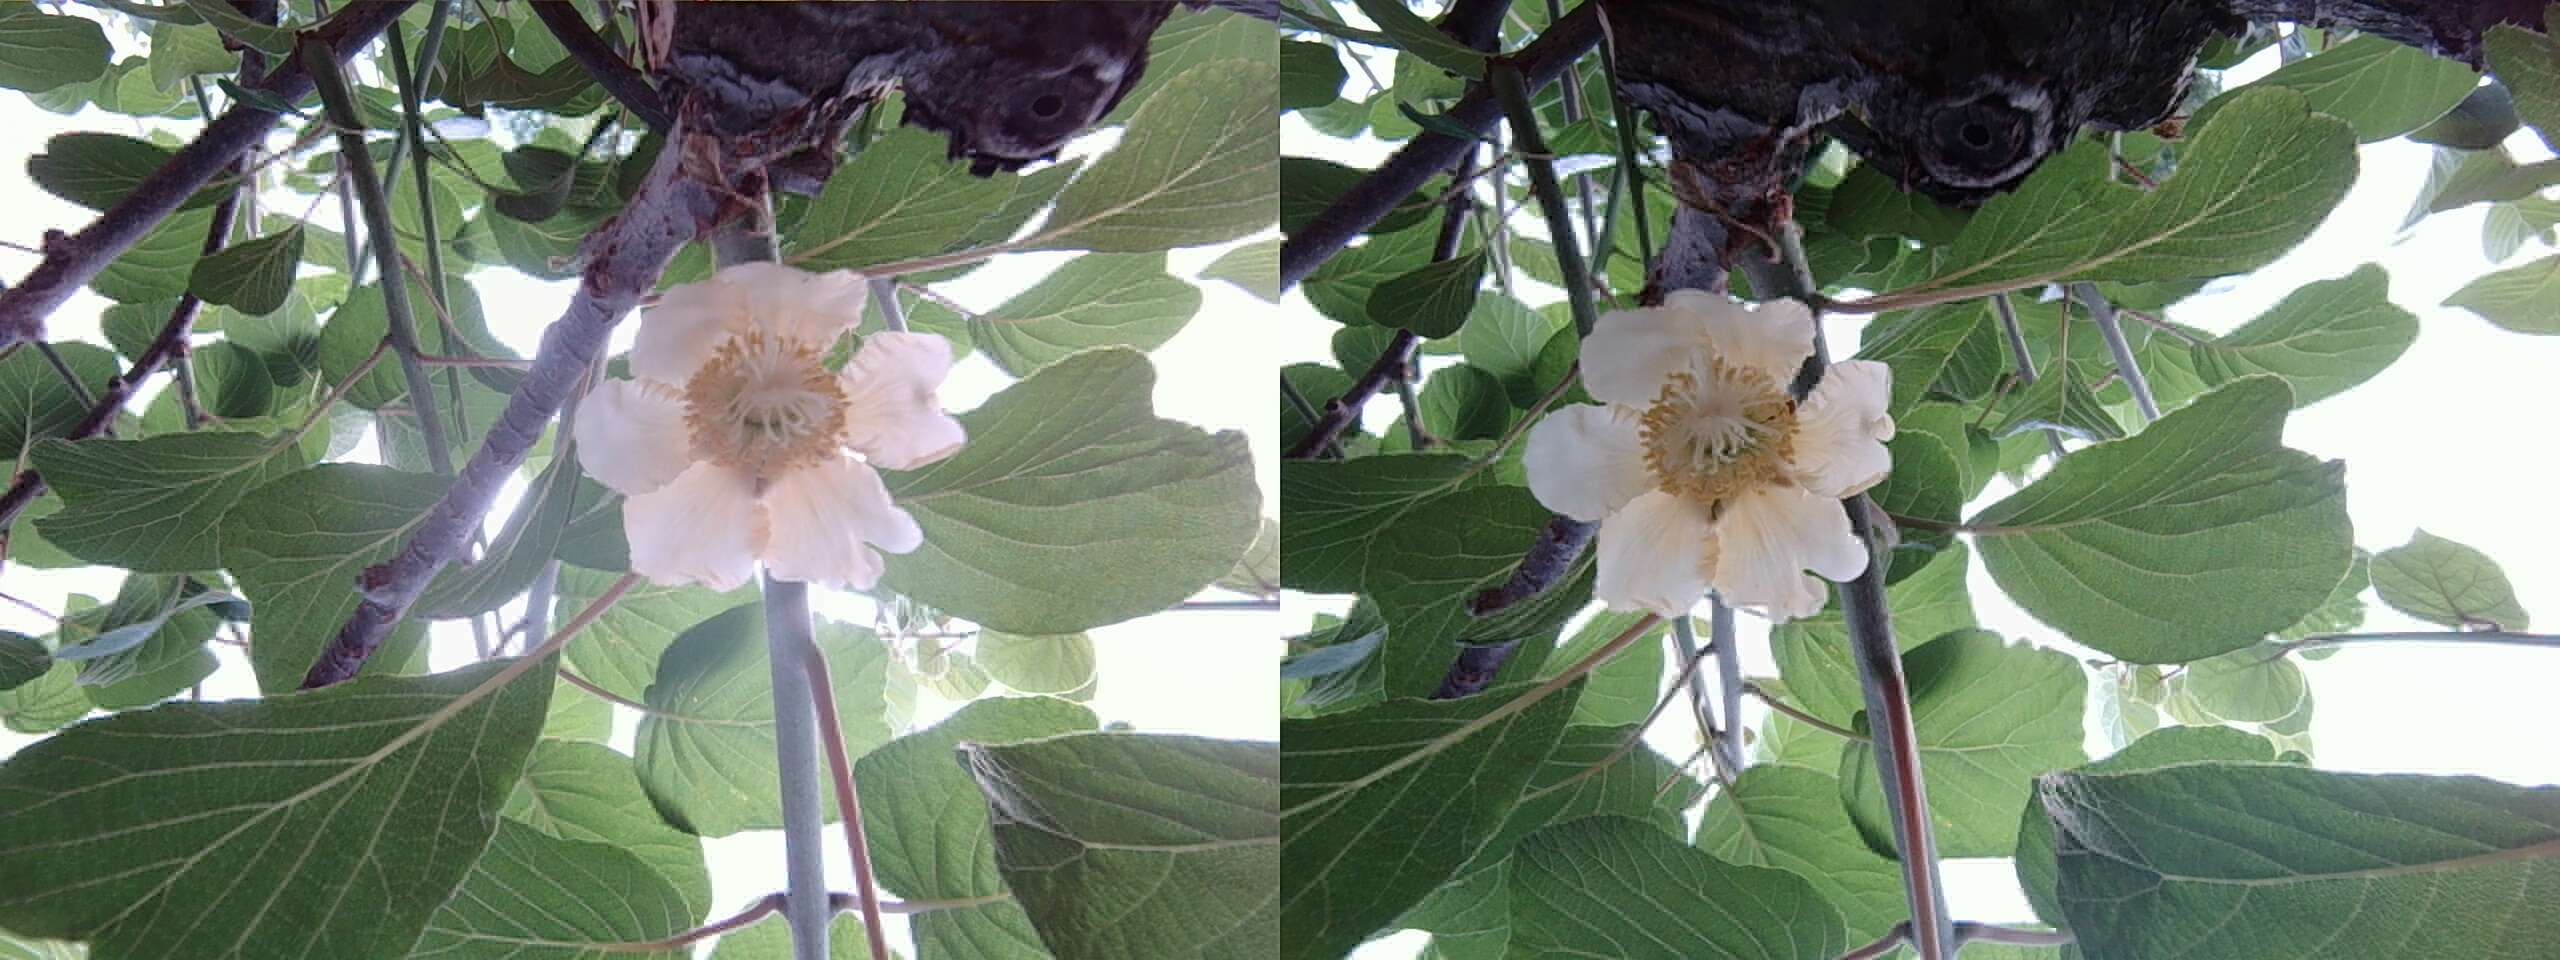flower: (1548, 286, 1869, 611), (588, 264, 934, 560)
